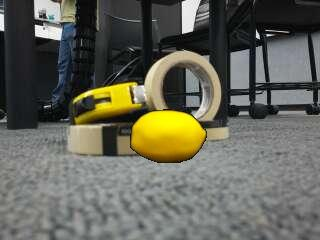lemon: (131, 110, 205, 162)
